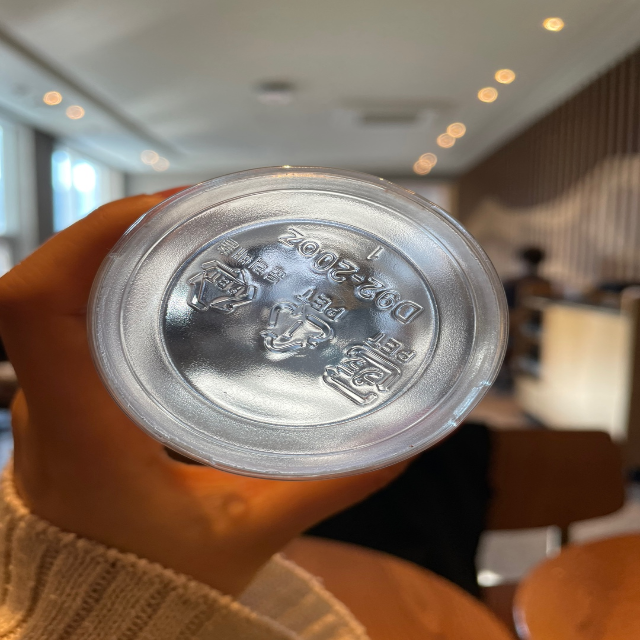pet: (179, 230, 284, 323), (320, 328, 419, 409), (263, 283, 349, 363)
